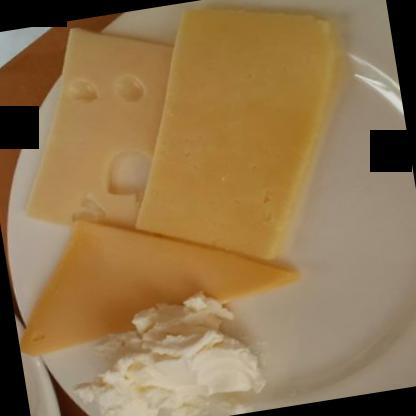parmesan cheese: (103, 0, 370, 276), (10, 198, 301, 356), (13, 14, 187, 241)
